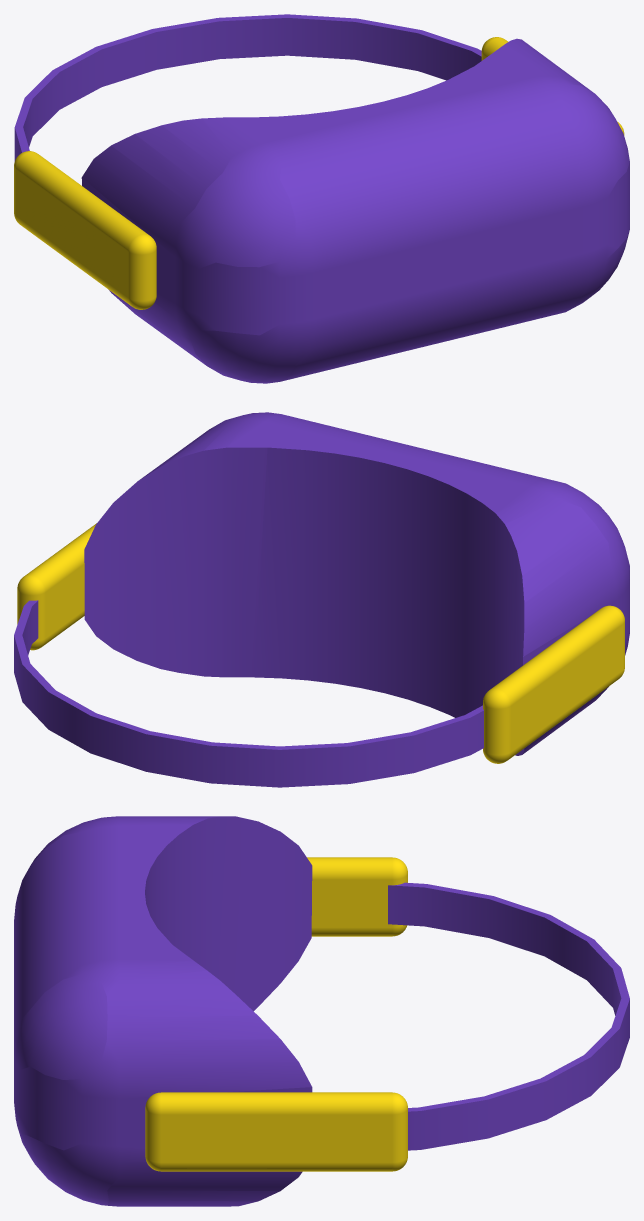
File: ttc-explainer-poc-headset.glb
3 views of the same model, one above another, from view 1: azimuth 30°, elevation 25°; view 2: azimuth 150°, elevation 25°; view 3: azimuth 270°, elevation 25° (orthographic). The views are drawn at different scales.
Parts seen in each view (by area): view 1: main, strap, edge; view 2: main, strap, edge (×2); view 3: main, edge (×2), strap.
Part boxes in pixels (x1=…): main: x1=81, y1=38, x2=629, y2=383; strap: x1=14, y1=14, x2=481, y2=161; edge: x1=14, y1=151, x2=156, y2=309; main: x1=84, y1=412, x2=629, y2=755; strap: x1=14, y1=600, x2=483, y2=787; edge (×2): x1=17, y1=523, x2=624, y2=763; main: x1=14, y1=816, x2=312, y2=1206; edge (×2): x1=145, y1=857, x2=407, y2=1171; strap: x1=388, y1=882, x2=629, y2=1150.
Size of the model in its own units: 0.2343 by 0.1047 by 0.2456.
